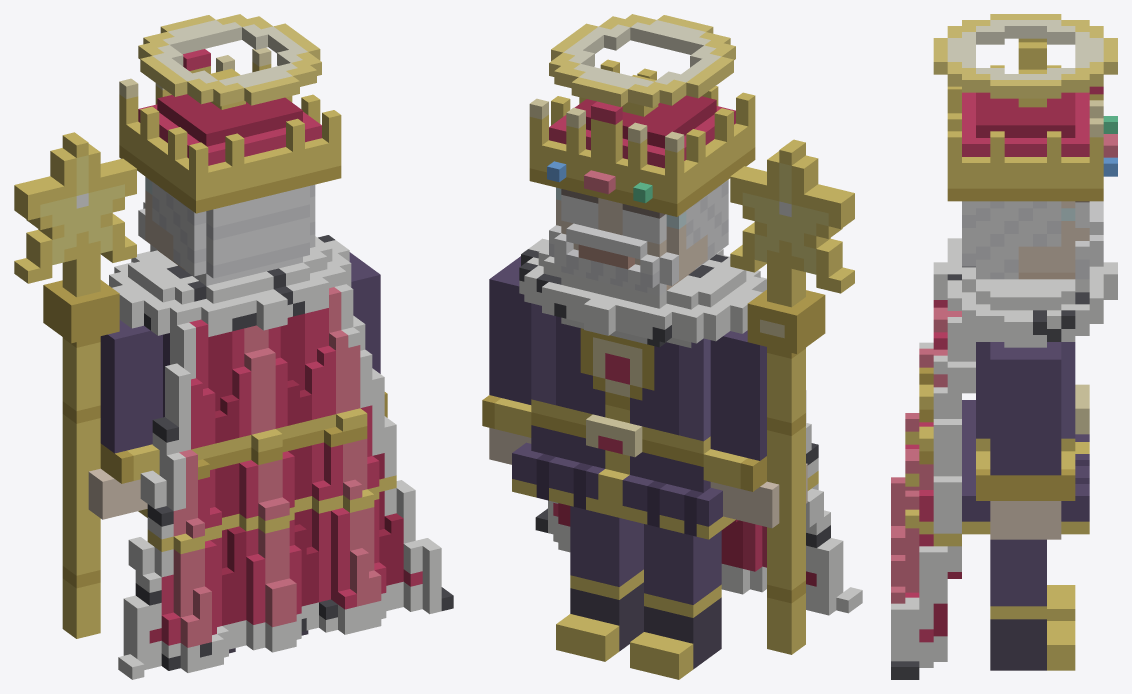
File: AdminoSupremo.glb
3 renders of one model, left to right at view 1: azimuth 30°, elevation 25°; view 2: azimuth 150°, elevation 25°; view 3: azimuth 270°, elevation 25°, orthographic.
Visible parts, largest first — view 1: geometry_0; view 2: geometry_0; view 3: geometry_0.
Part boxes in pixels (x1,y1,x2,y2): geometry_0: (14,14,453,679); geometry_0: (482,14,862,679); geometry_0: (891,14,1117,679).
Bounding box in the file's own units: 0.6522 × 1 × 0.3478.
